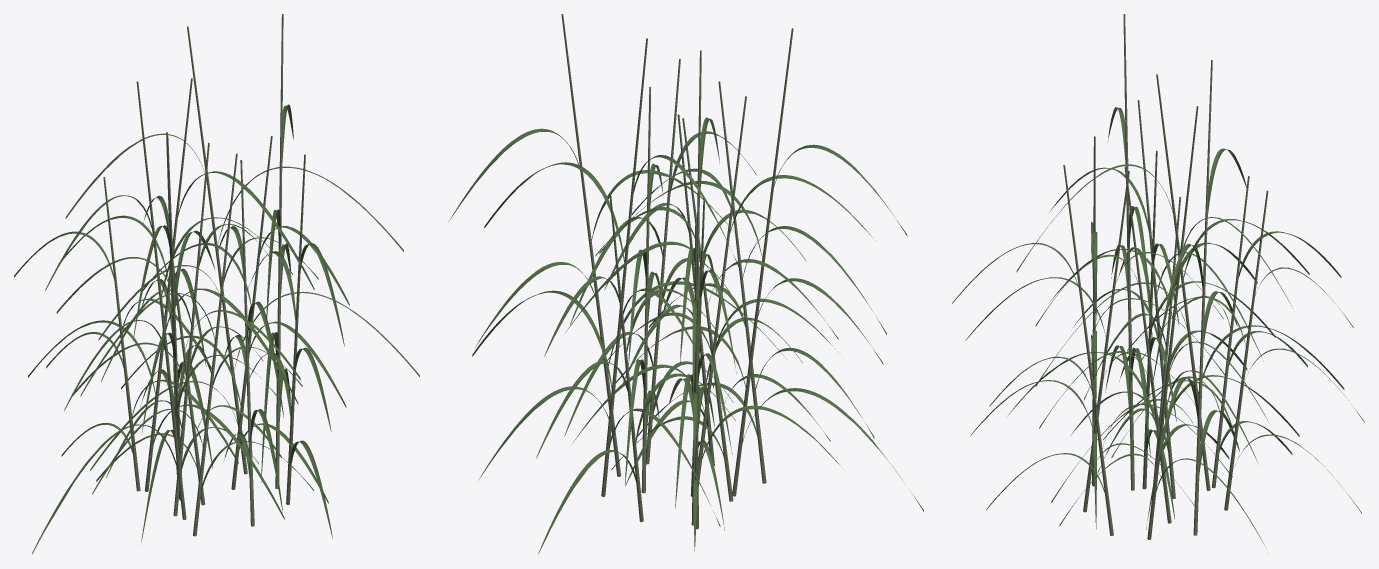
File: saccharum-2.glb
The picture shows the model from 3 angles, left to right: view 1: azimuth 30°, elevation 25°; view 2: azimuth 150°, elevation 25°; view 3: azimuth 270°, elevation 25°; orthographic projection. The views are drawn at different scales.
Visible parts, largest first — view 1: grass-leaf, stem; view 2: grass-leaf, stem; view 3: grass-leaf, stem.
Part boxes in pixels (x1,y1,x2,y2): grass-leaf: (14,104,419,554); stem: (103,14,305,536); grass-leaf: (448,117,923,554); stem: (561,14,793,529); grass-leaf: (952,107,1364,548); stem: (1063,14,1268,539).
Size of the model in its own units: 0.853 by 0.9048 by 0.749.
Materials: 2 (2 with a texture image).
